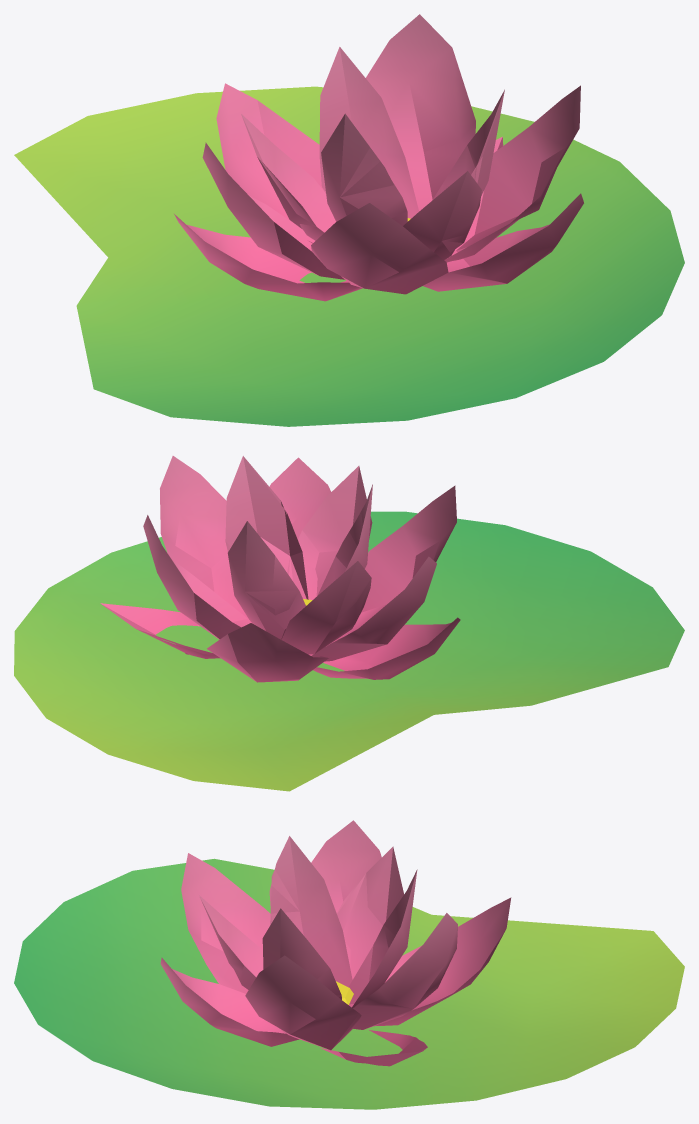
Rendered from Lotus.glb.
3 renders of one model, top to bottom at view 1: azimuth 30°, elevation 25°; view 2: azimuth 150°, elevation 25°; view 3: azimuth 270°, elevation 25°, orthographic. The views are drawn at different scales.
Visible parts, largest first — view 1: Lotus; view 2: Lotus; view 3: Lotus.
Boxes of the visible parts, x1,y1,x2,y2 form: Lotus: [14, 14, 684, 426]; Lotus: [14, 456, 684, 791]; Lotus: [14, 820, 684, 1109].
Size of the model in its own units: 3.58 by 1.14 by 3.94.
1 material, 1 textured.
